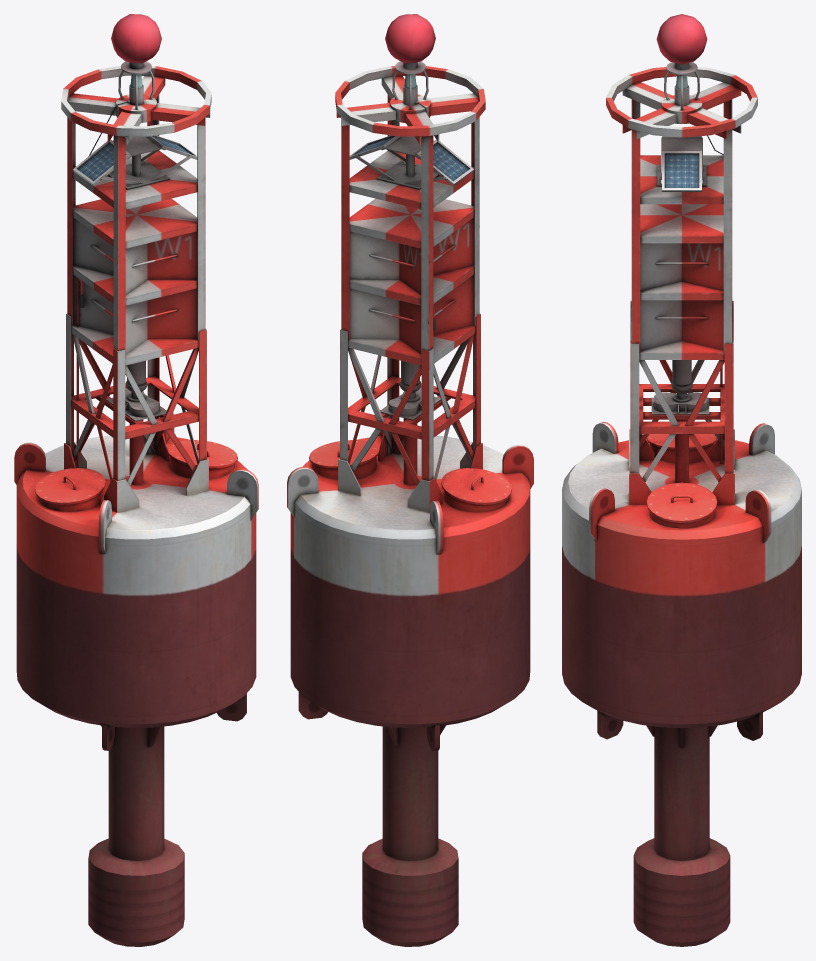
File: C04_ZHSS.glb
3 views of the same model, side by side, from view 1: azimuth 30°, elevation 25°; view 2: azimuth 150°, elevation 25°; view 3: azimuth 270°, elevation 25° (orthographic).
Visible parts, largest first — view 1: C04ZHSS1; view 2: C04ZHSS1; view 3: C04ZHSS1.
Part boxes in pixels (x1,y1,x2,y2): C04ZHSS1: [14, 14, 258, 946]; C04ZHSS1: [287, 14, 533, 946]; C04ZHSS1: [562, 14, 801, 946].
Size of the model in its own units: 1.98 by 8.35 by 1.98.
Materials: 1 (1 with a texture image).
